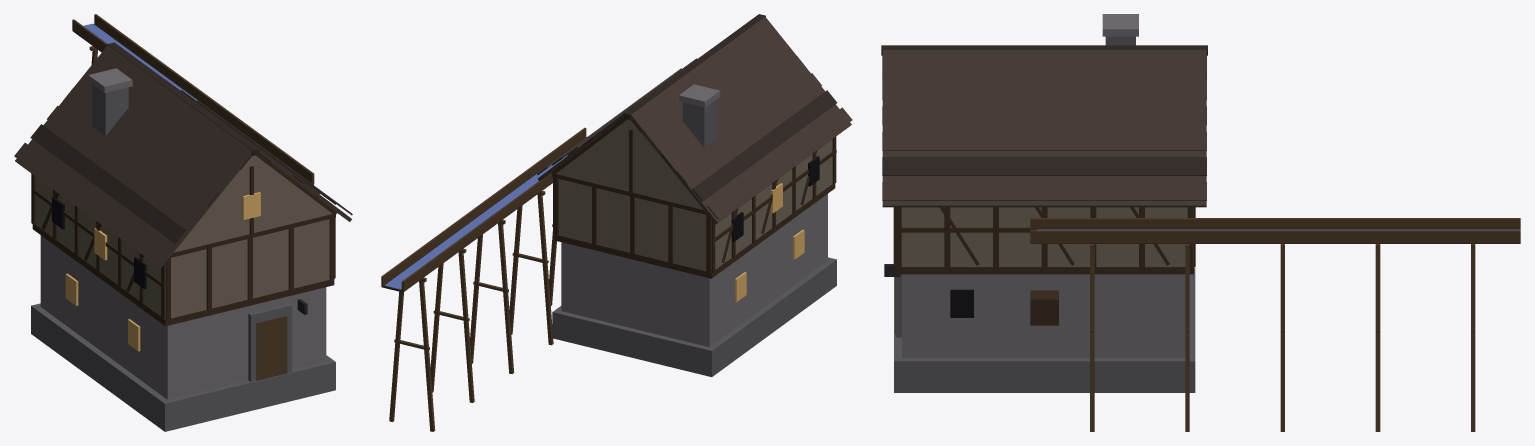
File: foxglove-mill.glb
3 views of the same model, side by side, from view 1: azimuth 30°, elevation 25°; view 2: azimuth 150°, elevation 25°; view 3: azimuth 270°, elevation 25° (orthographic). The views are drawn at different scales.
Visible parts, largest first — view 1: foxglove-mill; view 2: foxglove-mill; view 3: foxglove-mill.
Boxes of the visible parts, x1=… form: foxglove-mill: x1=14, y1=14, x2=352, y2=431; foxglove-mill: x1=381, y1=14, x2=852, y2=431; foxglove-mill: x1=881, y1=14, x2=1520, y2=431.
Size of the model in its own units: 9.55 by 10.93 by 20.15.
